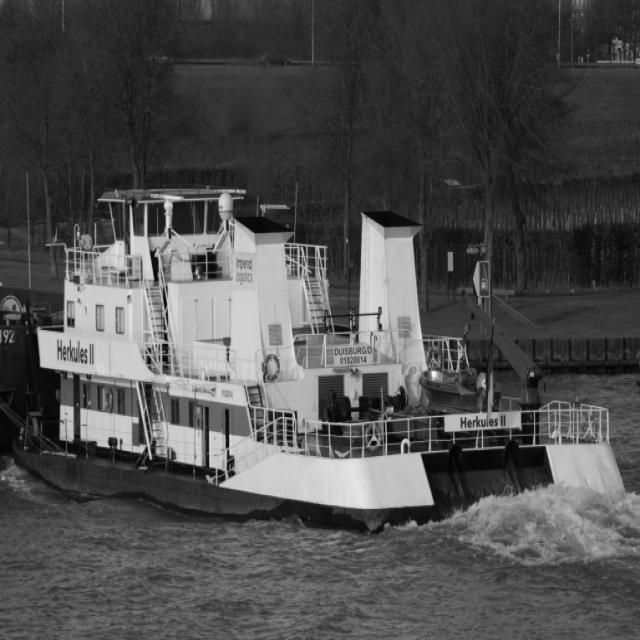tugboat: (12, 181, 634, 550)
